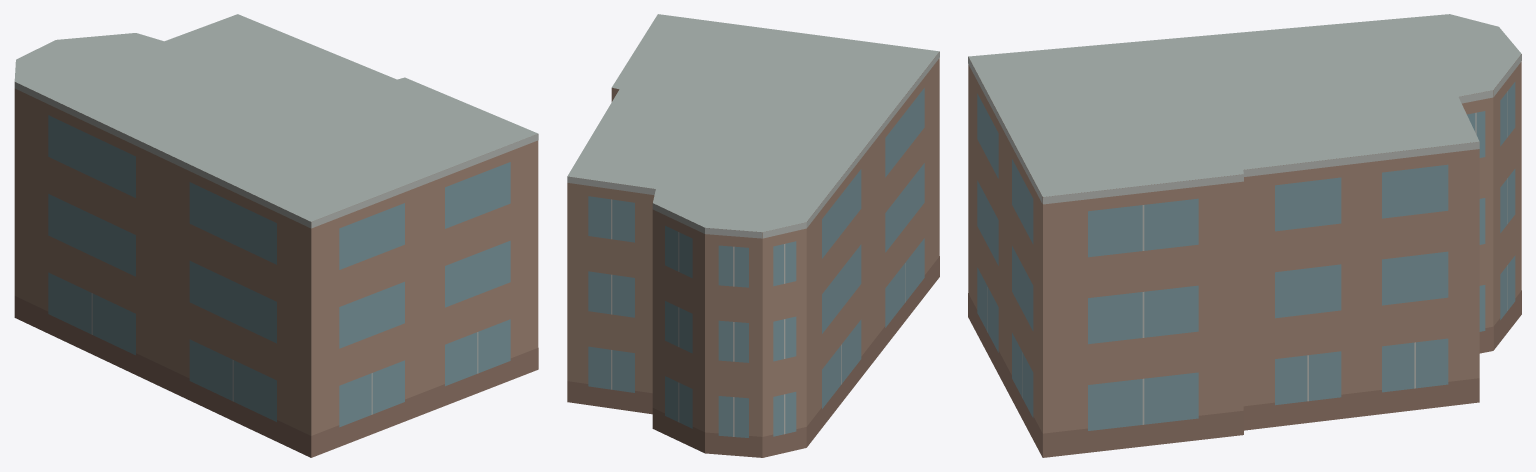
Rendered from survey-upis-32680378.glb.
The picture shows the model from 3 angles, left to right: view 1: azimuth 30°, elevation 25°; view 2: azimuth 150°, elevation 25°; view 3: azimuth 270°, elevation 25°; orthographic projection. The views are drawn at different scales.
Parts seen in each view (by area): view 1: survey-upis-32680378.tmp; view 2: survey-upis-32680378.tmp; view 3: survey-upis-32680378.tmp.
Boxes of the visible parts, x1,y1,x2,y2 form: survey-upis-32680378.tmp: (14, 14, 538, 457); survey-upis-32680378.tmp: (567, 14, 939, 457); survey-upis-32680378.tmp: (968, 14, 1521, 457).
Bounding box in the file's own units: 13.04 × 8.65 × 16.65.
